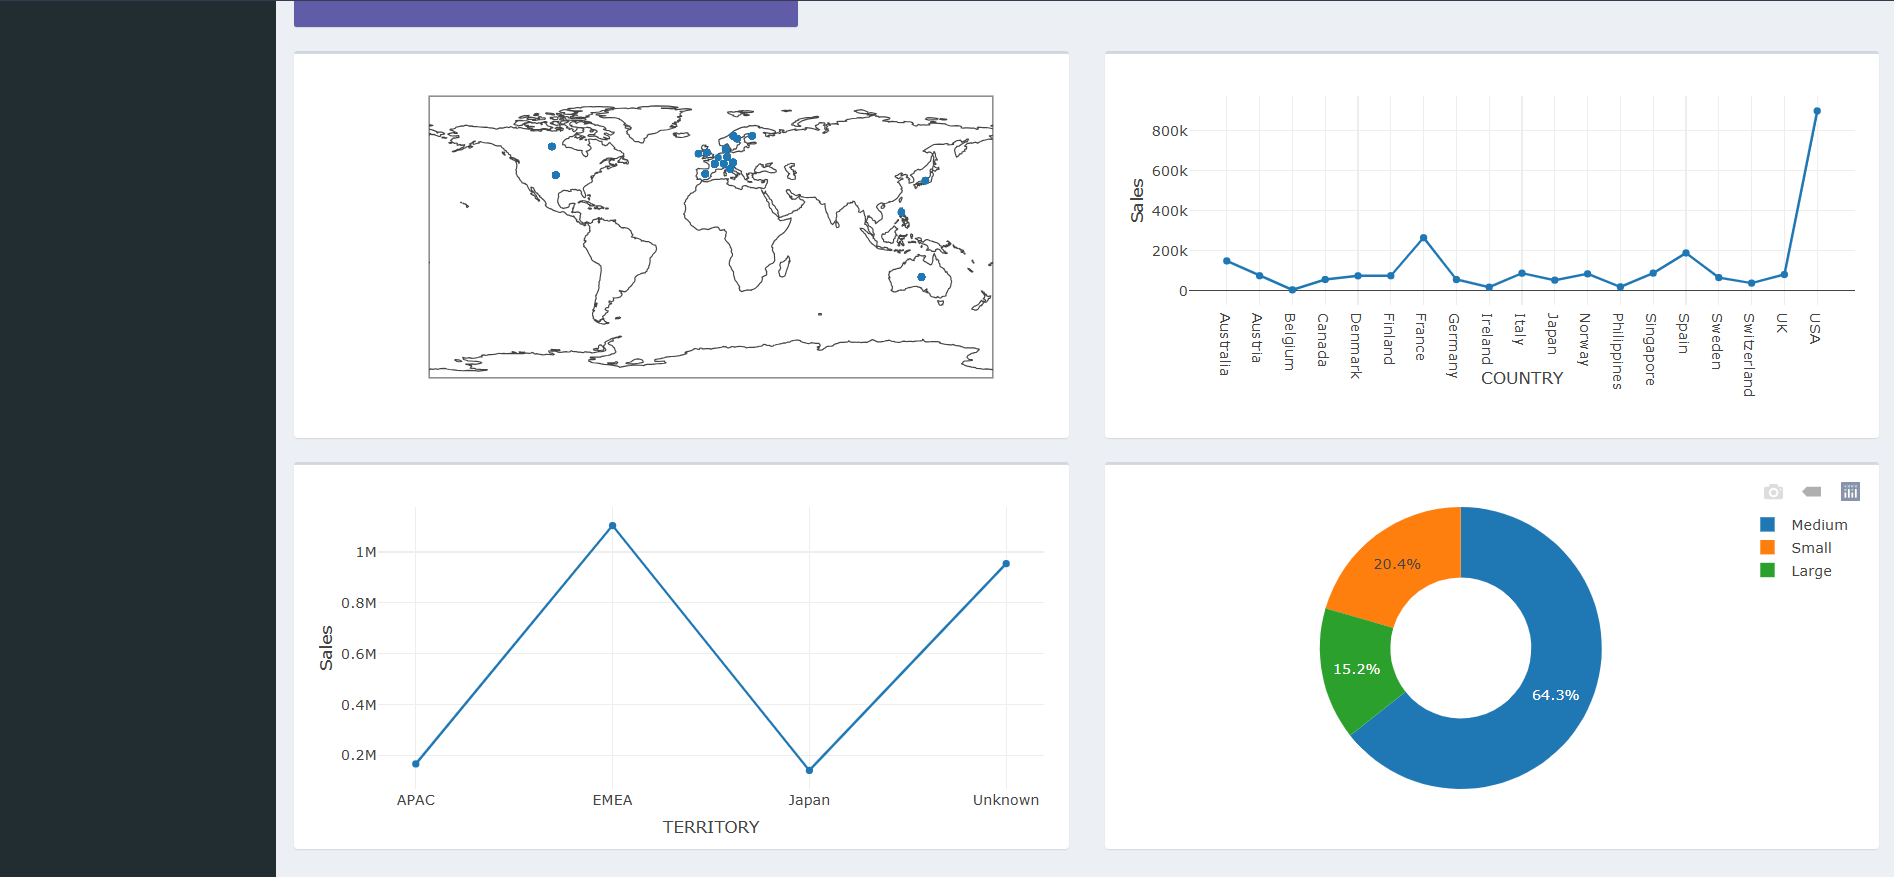

Layout of this report page (visuals, bound fields, positions):
{"tool":"powerbi","page":{"name":"Overview","canvas":[1280,720],"ordinal":1},"visuals":[{"type":"textbox","box":[0,0,543.7,53.8],"z":0},{"type":"lineChart","title":"Sales by Month Year","fields":{"Category":["Sales_data.MonthYear"],"Y":["Sum(Sales_data.sales)"]},"box":[0,374.4,954,344.6],"z":1000},{"type":"scriptVisual","fields":{"Values":["Sales_data.sales","Sales_data.dealsize"]},"box":[0,55,756.7,304.4],"z":2000},{"type":"cardVisual","fields":{"Data":["Sales_data.Total Sales","Sales_data.Avg Sales","Sales_data.Total Orders","Sales_data.Total Quantity"]},"box":[803.3,0,477.2,373.8],"z":3000},{"type":"slicer","fields":{"Values":["Sales_data.status"]},"box":[954,374.4,326.6,344.6],"z":4000}]}

Visuals, with their boxes on the page's 1280x720 design canvas (x1, y1, x2, y2). These are canvas units, not pixel positions in the 1894x877 screenshot, which may show the page scaled, cropped or inside an application window:
textbox: (x1=0, y1=0, x2=544, y2=54)
"Sales by Month Year" lineChart: (x1=0, y1=374, x2=954, y2=719)
scriptVisual - Sales_data.sales x Sales_data.dealsize: (x1=0, y1=55, x2=757, y2=359)
cardVisual - Sales_data.Total Sales x Sales_data.Avg Sales: (x1=803, y1=0, x2=1280, y2=374)
slicer - Sales_data.status: (x1=954, y1=374, x2=1281, y2=719)
